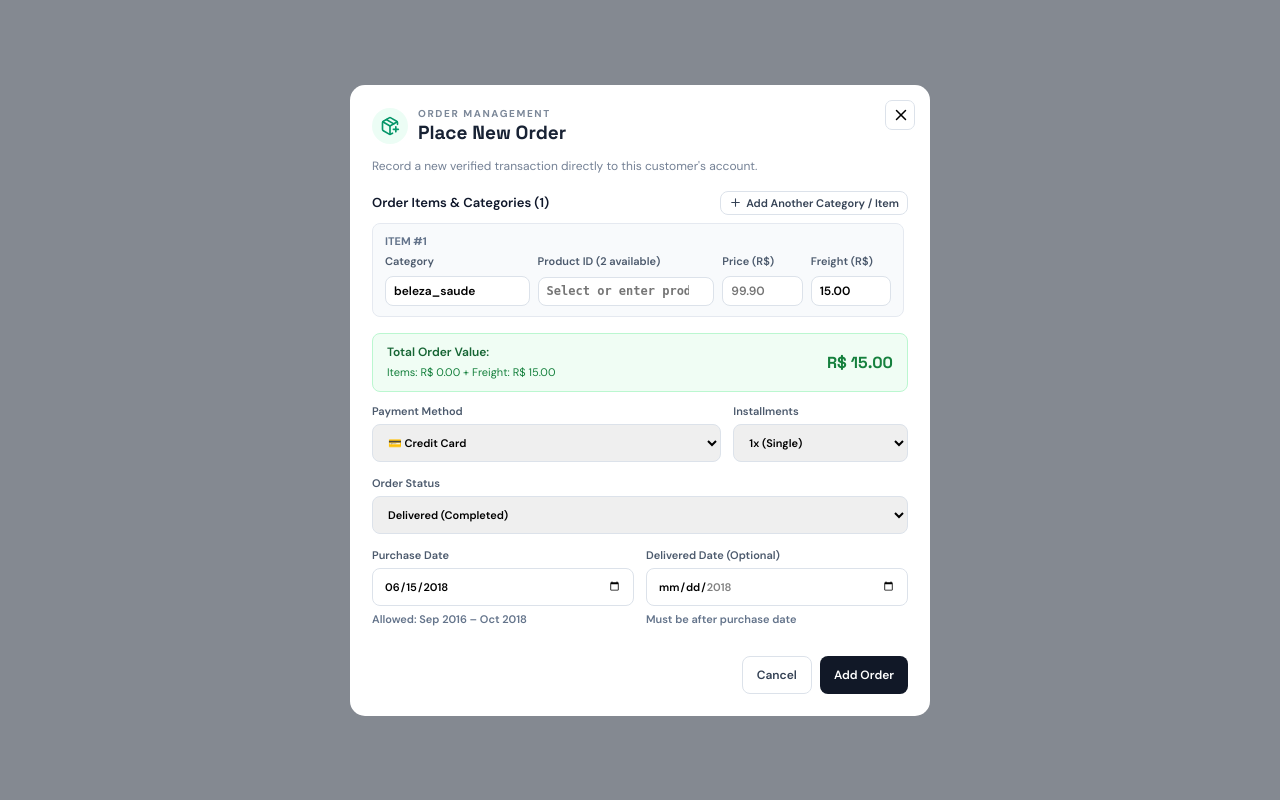
Test case: OrderModal Component › adds and removes item rows
Click the button "Add Another Category / Item". click: point(814, 202)
box: [720,190,908,214]
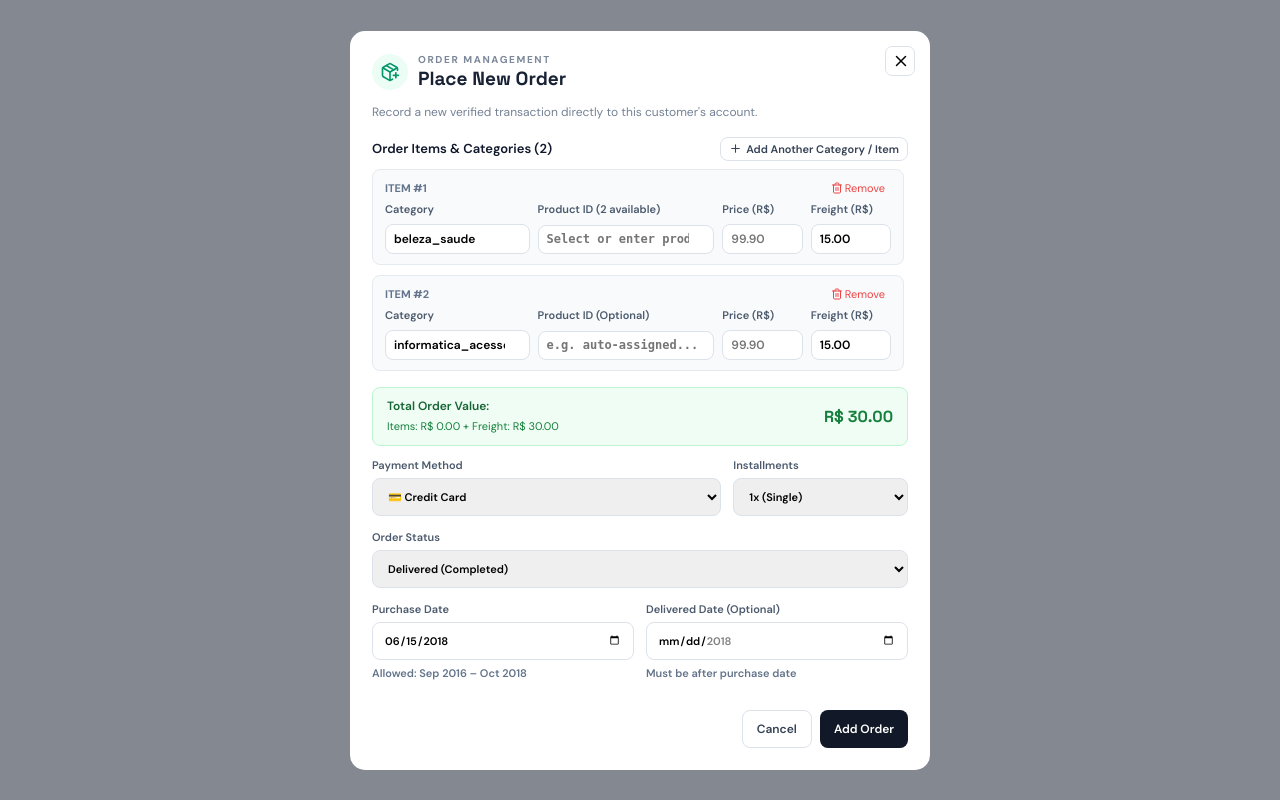
Now the text "Order Items & Categories (2)" is shown, box [372,140,552,157]
Now the number of buttons titled "Remove this item" is 2
Click the 2nd button titled "Remove this item". click: point(858, 294)
box: [825,286,891,302]
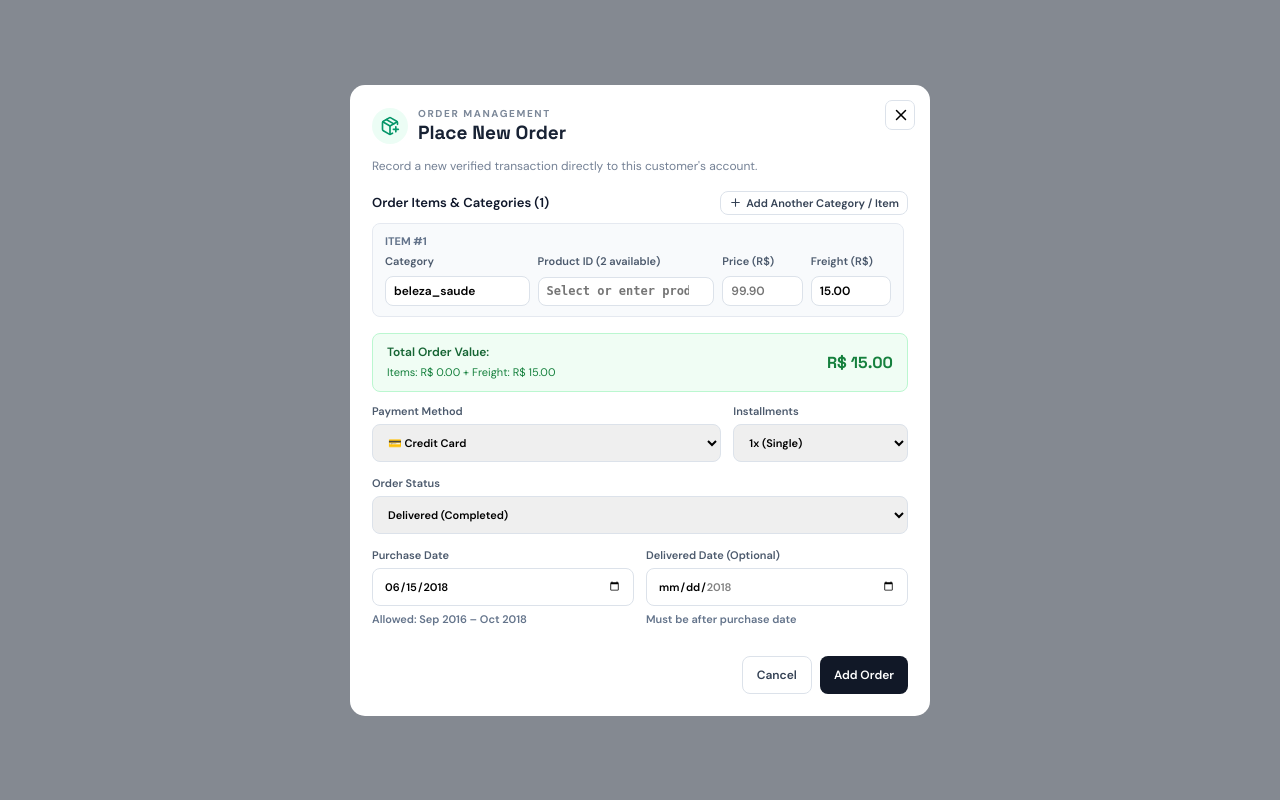
Now the text "Order Items & Categories (1)" is shown, box [372,194,549,211]
